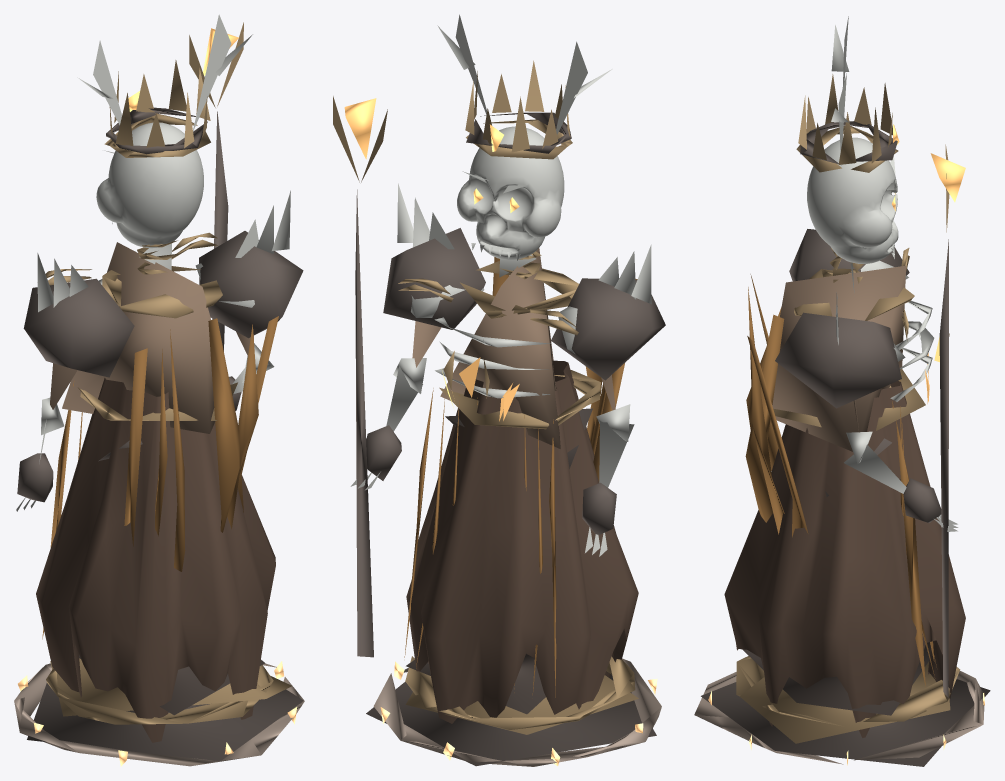
Rendered from roi_liche_orange.fbx.
3 views of the same model, side by side, from view 1: azimuth 30°, elevation 25°; view 2: azimuth 150°, elevation 25°; view 3: azimuth 270°, elevation 25° (orthographic). The views are drawn at different scales.
Parts seen in each view (by area): view 1: ragged_cloak, armored_cuirass, sculpted_skull, plinth_lower, pauldron_-1, pauldron_1, plinth_silver_trim, back_mantle_ribbon_1_0, plinth_gold_rim, plinth_beveled, back_mantle_ribbon_-1_2, gorget (+19 smaller); view 2: ragged_cloak, sculpted_skull, armored_cuirass, plinth_lower, pauldron_-1, pauldron_1, ritual_staff, plinth_silver_trim, plinth_gold_rim, cuirass_waist_ring, plinth_beveled, gorget (+20 smaller); view 3: ragged_cloak, armored_cuirass, pauldron_1, sculpted_skull, plinth_lower, plinth_beveled, plinth_silver_trim, ritual_staff, plinth_gold_rim, back_mantle_ribbon_1_0, plinth_inner, pauldron_-1 (+12 smaller).
Boxes of the visible parts, x1,y1,x2,y2 form: ragged_cloak: (36,378,275,742); armored_cuirass: (62,242,215,433); sculpted_skull: (96,122,203,248); plinth_lower: (27,683,303,761); pauldron_-1: (23,278,134,377); pauldron_1: (199,231,303,338); plinth_silver_trim: (14,663,304,766); back_mantle_ribbon_1_0: (208,318,239,532); plinth_gold_rim: (46,665,273,724); plinth_beveled: (50,658,291,716); back_mantle_ribbon_-1_2: (124,348,147,546); gorget: (102,266,222,318); ragged_cloak: (406,360,638,723); sculpted_skull: (457,126,564,260); armored_cuirass: (440,248,560,448); plinth_lower: (366,674,656,766); pauldron_-1: (551,278,665,380); pauldron_1: (383,228,485,329); ritual_staff: (355,189,373,657); plinth_silver_trim: (373,658,661,766); plinth_gold_rim: (405,656,635,729); cuirass_waist_ring: (439,370,600,429); plinth_beveled: (405,675,638,734); gorget: (460,261,578,318); ragged_cloak: (724,381,965,737); armored_cuirass: (772,265,906,451); pauldron_1: (775,312,901,408); sculpted_skull: (807,137,898,263); plinth_lower: (701,679,990,766); plinth_beveled: (740,661,950,743); plinth_silver_trim: (694,671,984,764); ritual_staff: (939,239,948,697); plinth_gold_rim: (736,656,960,726); back_mantle_ribbon_1_0: (745,314,784,522); plinth_inner: (742,642,930,715); pauldron_-1: (789,229,909,281).
Bounding box in the file's own units: 75.21 × 182 × 72.96.
